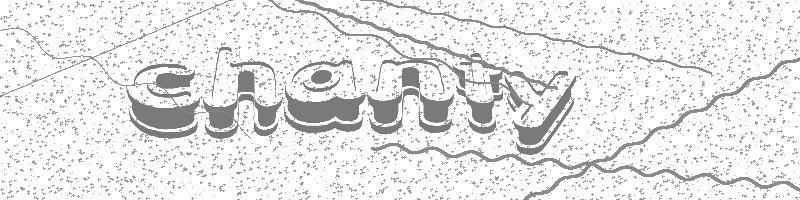a: (283, 58, 365, 134)
c: (126, 62, 200, 140)
h: (203, 44, 284, 139)
n: (367, 58, 455, 135)
t: (454, 52, 505, 135)
y: (505, 70, 577, 156)
